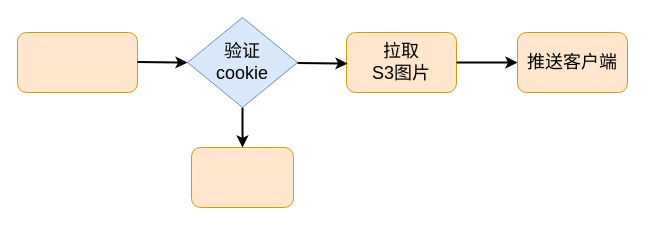
This 645x225 diagram has some shape labels left out. The shapes that lost their labels are listed below. From the top down, each one's centre as x and y in pixels, then its label:
At point (77, 62): "获取用户 登陆信息".
At point (242, 177): "返回 失败信息".
